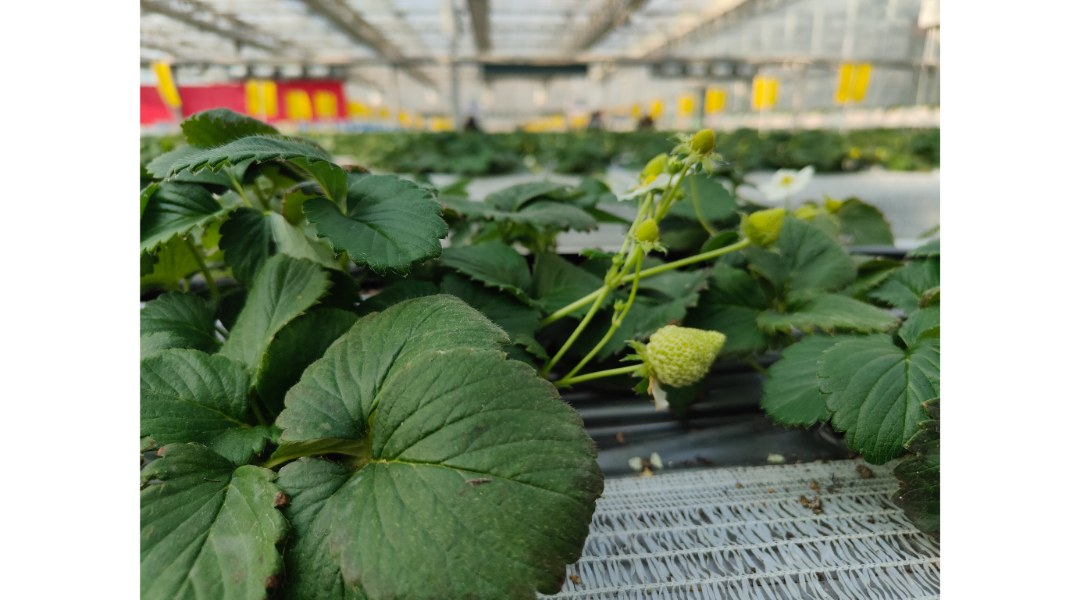berry: (631, 322, 736, 392), (719, 205, 805, 256)
flower: (739, 162, 826, 205)
strain: (652, 241, 738, 284)
